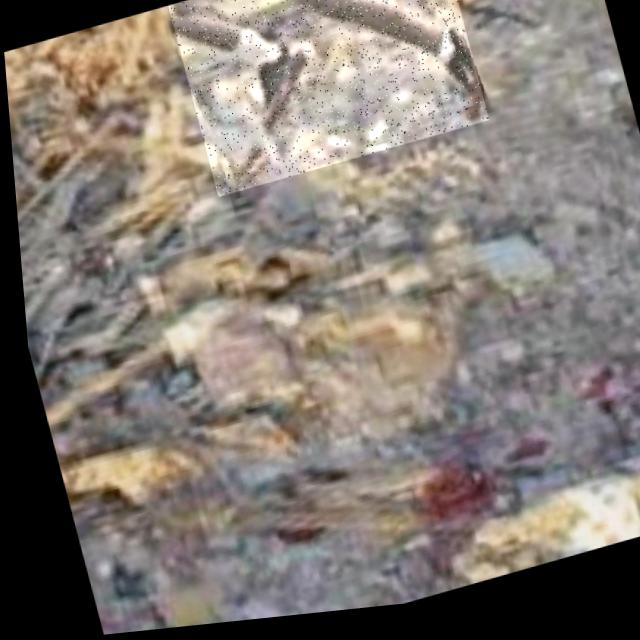Person in Rubble: (166, 0, 489, 203)
